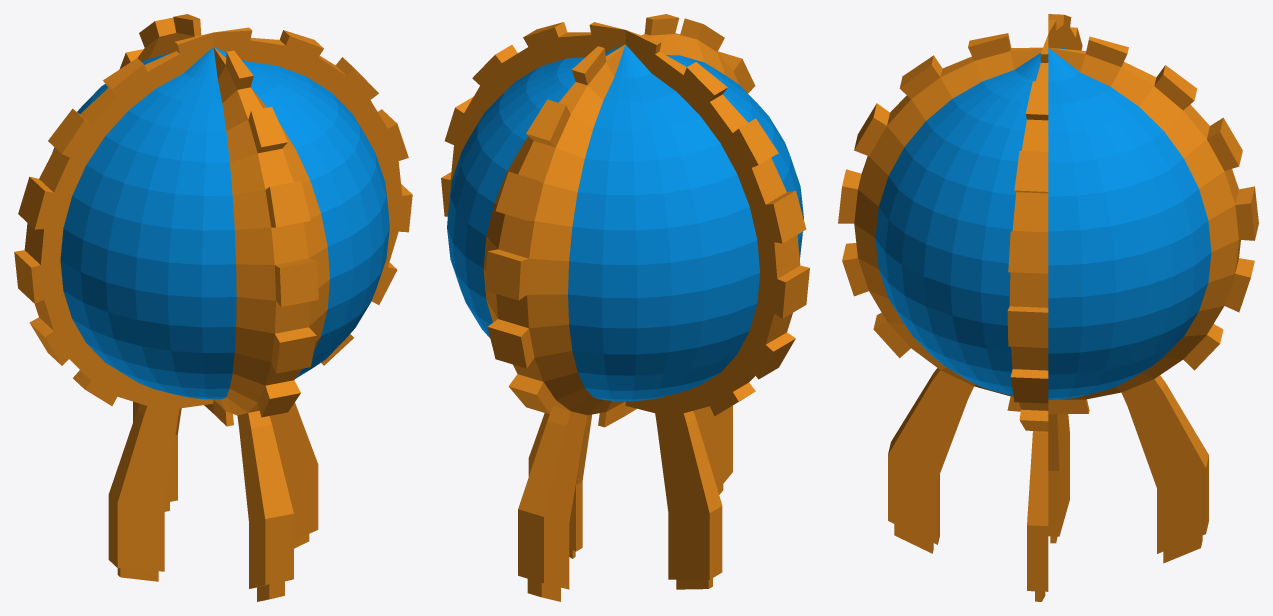
File: ArtefactoIdriano.fbx
3 renders of one model, left to right at view 1: azimuth 30°, elevation 25°; view 2: azimuth 150°, elevation 25°; view 3: azimuth 270°, elevation 25°, orthographic.
Parts seen in each view (by area): view 1: Cubierta, Nucleo; view 2: Cubierta, Nucleo; view 3: Nucleo, Cubierta.
Boxes of the visible parts, left/top/right/bottom form: Cubierta: left=14, top=14, right=412, bottom=601; Nucleo: left=52, top=47, right=389, bottom=399; Cubierta: left=441, top=14, right=809, bottom=601; Nucleo: left=447, top=44, right=803, bottom=401; Nucleo: left=875, top=48, right=1211, bottom=399; Cubierta: left=838, top=14, right=1258, bottom=601.
Bounding box in the file's own units: 238 × 335 × 239.
